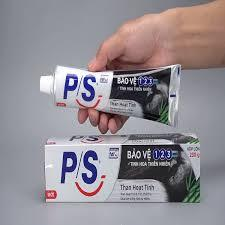toothpaste: (33, 64, 195, 136)
